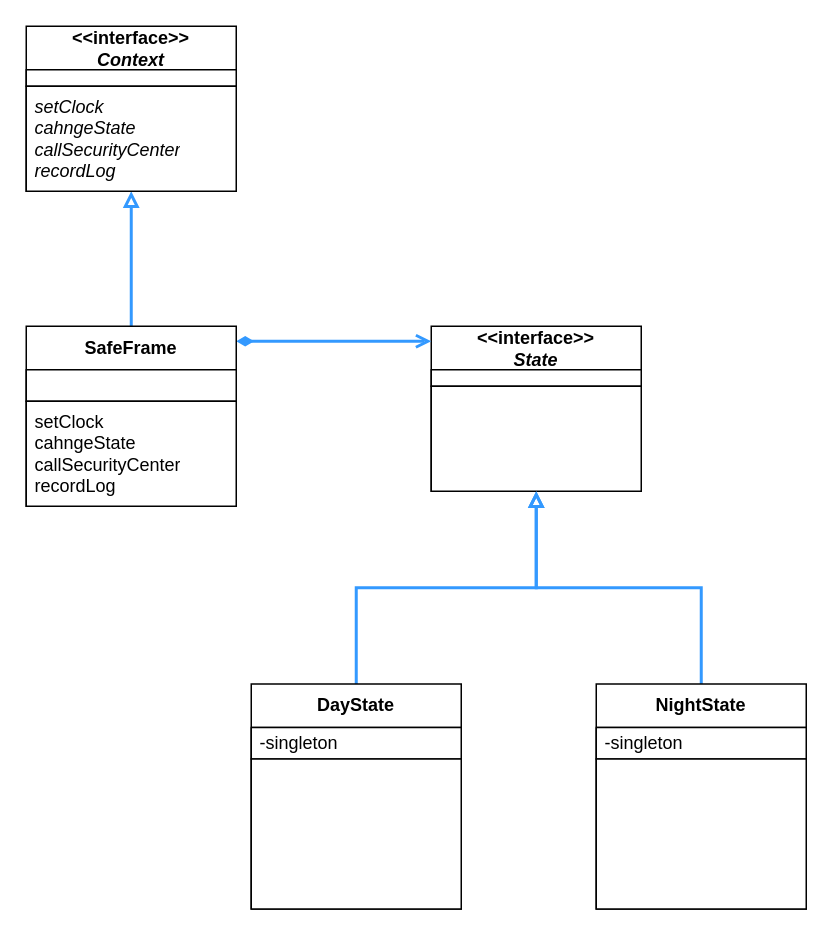
Some shapes in this 833 by 936 pixel diagram are drawn without their labels. Each missing label, with the centre of its shape:
"-DayState getInstance doClock doUse doAlarm doPhone" goes at point 355,833.
"-NightState getInstance doClock doUse doAlarm doPhone" goes at point 700,833.
"-state" goes at point 130,384.
"doClock doUse doAlarm doPhone" goes at point 535,438.
